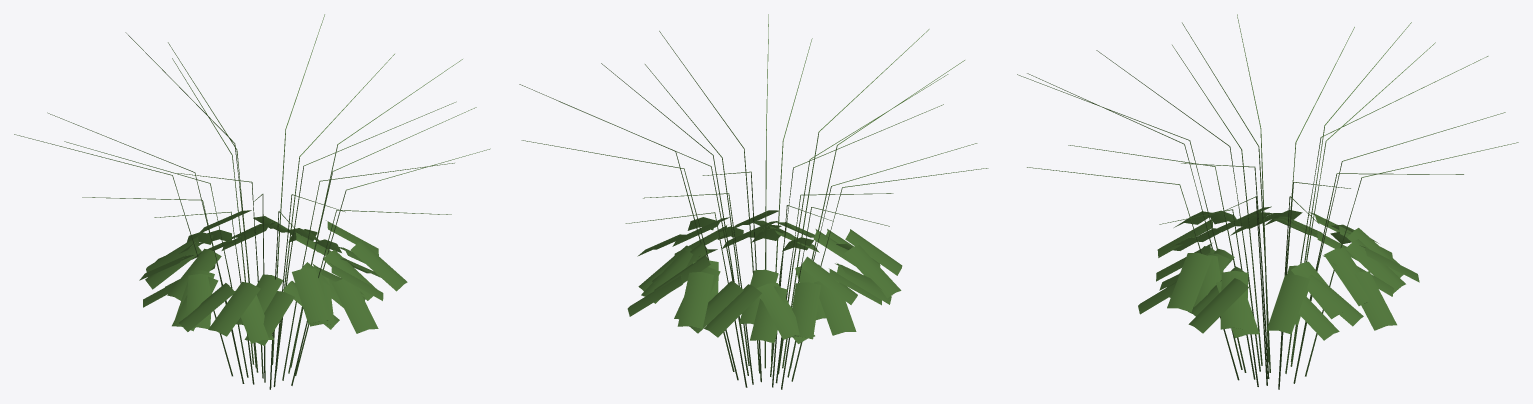
File: bamboo_tre_gai.far.glb
3 renders of one model, left to right at view 1: azimuth 30°, elevation 25°; view 2: azimuth 150°, elevation 25°; view 3: azimuth 270°, elevation 25°, orthographic. The views are drawn at different scales.
Visible parts, largest first — view 1: bamboo_tre_gai; view 2: bamboo_tre_gai; view 3: bamboo_tre_gai.
Boxes of the visible parts, <box> form: bamboo_tre_gai: <box>14,14,490,389</box>; bamboo_tre_gai: <box>519,14,988,389</box>; bamboo_tre_gai: <box>1017,14,1518,389</box>.
Size of the model in its own units: 20.96 by 13.38 by 20.36.
